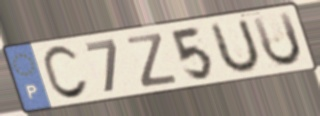5: (167, 23, 215, 82)
7: (82, 36, 121, 95)
C: (40, 43, 91, 103)
U: (249, 9, 305, 69), (209, 16, 263, 77)
Z: (124, 31, 180, 90)
